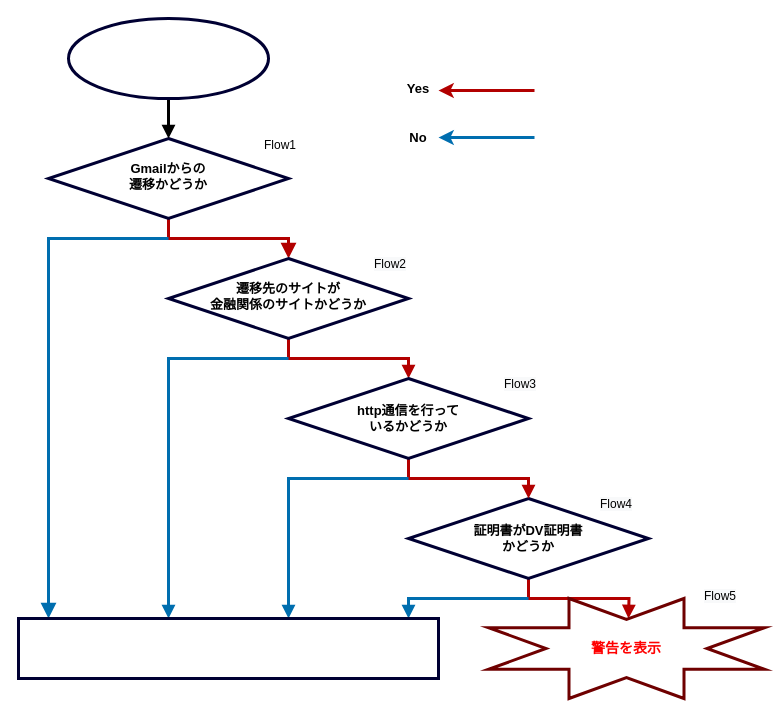
The diagram is 783 pixels wide and 717 high, and some of its shapes have lost their labels. Here are the shapes that lost their labels. From the top down, the centre of each, then its label:
At pixel 168 58: "サイト遷移発生".
At pixel 228 648: "処理を終了".
